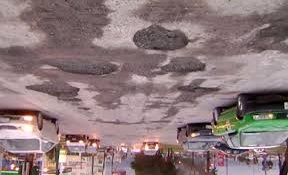pothole: (244, 18, 288, 57), (128, 26, 196, 51), (39, 59, 121, 78), (156, 57, 209, 76), (26, 83, 82, 98), (176, 79, 222, 94), (56, 96, 83, 103), (75, 106, 88, 111)
